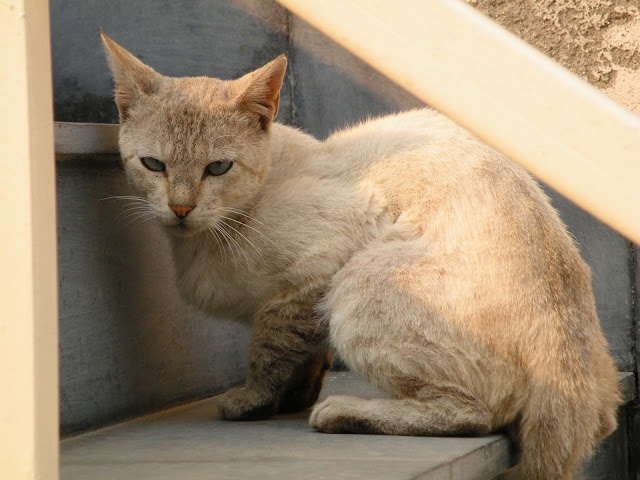cat: (77, 23, 640, 480)
